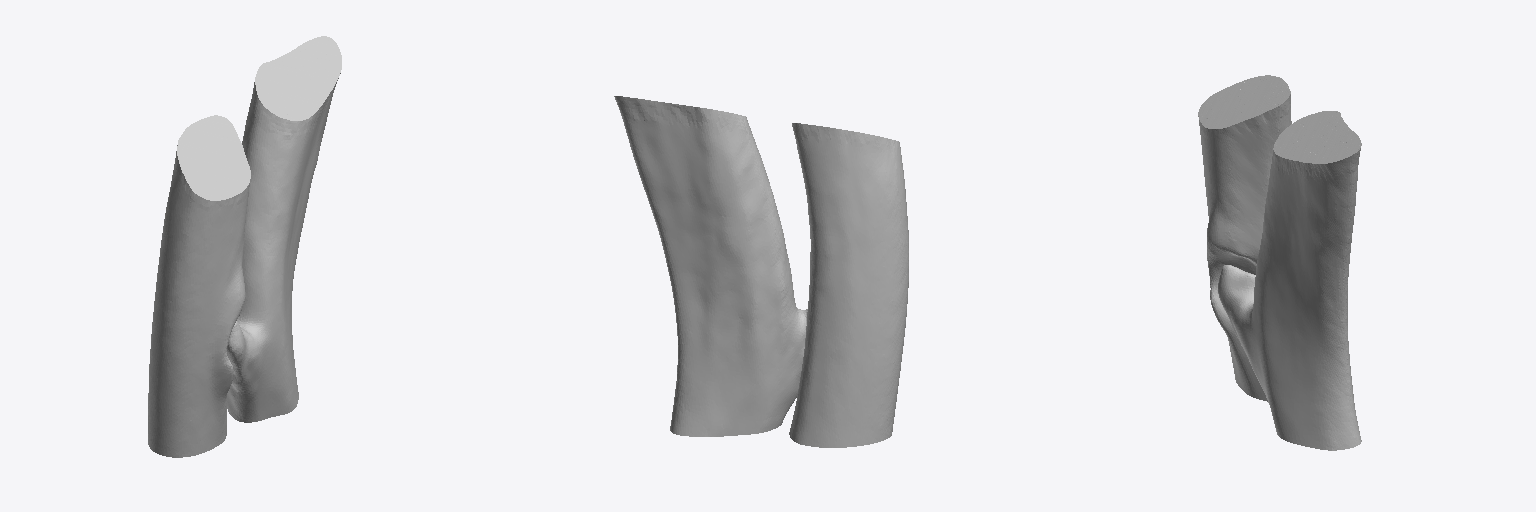
The model's file is totoro_con_UV.obj.
3 views of the same model, side by side, from view 1: azimuth 30°, elevation 25°; view 2: azimuth 150°, elevation 25°; view 3: azimuth 270°, elevation 25° (orthographic).
Visible parts, largest first — view 1: totoro_con_UV_totoro_con_UV.001; view 2: totoro_con_UV_totoro_con_UV.001; view 3: totoro_con_UV_totoro_con_UV.001.
Boxes of the visible parts, x1=… form: totoro_con_UV_totoro_con_UV.001: x1=148, y1=36, x2=341, y2=457; totoro_con_UV_totoro_con_UV.001: x1=614, y1=96, x2=908, y2=447; totoro_con_UV_totoro_con_UV.001: x1=1198, y1=75, x2=1361, y2=450.
Bounding box in the file's own units: 46.22 × 62.11 × 28.04.